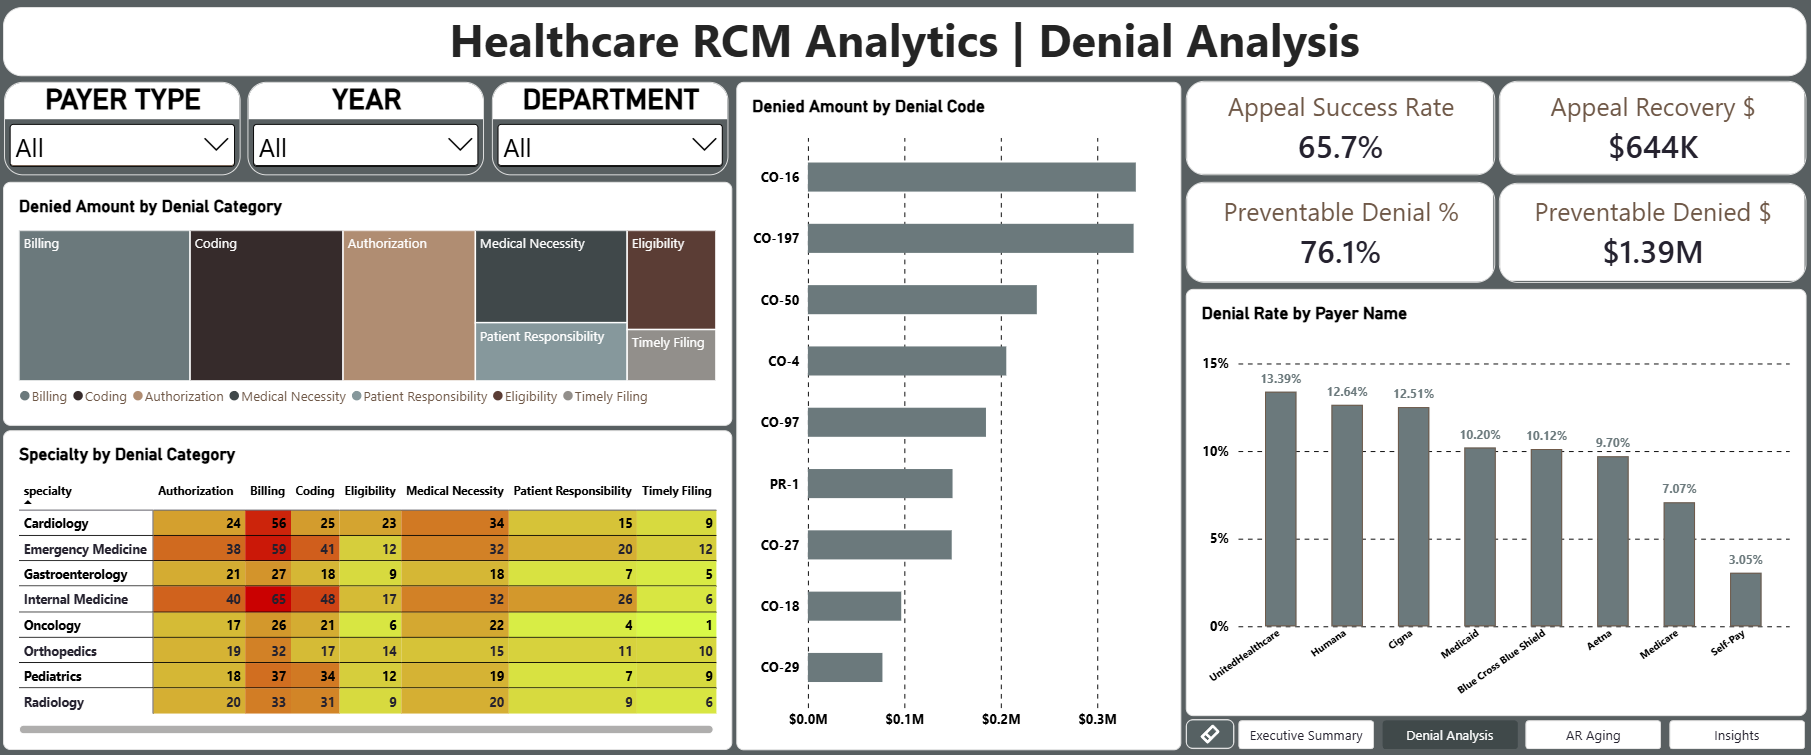

This screenshot's page, from the dashboard's own definition file:
{"tool":"powerbi","page":{"name":"Denial Analysis","canvas":[1920,800],"ordinal":1},"visuals":[{"type":"slicer","title":"YEAR","fields":{"Values":["Dim_Date.Year"]},"box":[264.3,87.9,250.7,98.5],"z":0},{"type":"slicer","title":"PAYER TYPE","fields":{"Values":["dim_payer.payer_type"]},"box":[6.3,87.9,250.2,99],"z":1000},{"type":"cardVisual","fields":{"Data":["_measures.Total Charges"]},"box":[1639.1,896.6,279.5,156.5],"z":2000},{"type":"slicer","title":"DEPARTMENT","fields":{"Values":["dim_provider.department"]},"box":[522.7,88,250.7,98.7],"z":3000},{"type":"textbox","box":[5.6,9,1909.6,73.6],"z":4000},{"type":"pageNavigator","box":[1313.8,763.8,601.2,31.2],"z":5000},{"type":"actionButton","box":[1257.7,762.9,51.6,31.4],"z":6000},{"type":"cardVisual","fields":{"Data":["_measures.Appeal Recovery $"]},"box":[1589.5,86.6,325.6,100],"z":7000},{"type":"cardVisual","fields":{"Data":["_measures.Appeal Success Rate"]},"box":[1257.6,86.6,327.9,100],"z":8000},{"type":"cardVisual","fields":{"Data":["_measures.Preventable Denied Amount"]},"box":[1589.3,195,325.7,105.7],"z":9000},{"type":"cardVisual","fields":{"Data":["_measures.Preventable Denial %"]},"box":[1257.9,193.6,327.9,107.1],"z":10000},{"type":"clusteredColumnChart","title":"Denial Rate by Payer Name","fields":{"Category":["dim_payer.payer_name"],"Y":["_measures.Denial Rate"]},"box":[1258,306.8,657,452.7],"z":11000},{"type":"clusteredBarChart","title":"Denied Amount by Denial Code","fields":{"Category":["fact_claims.denial_code"],"Y":["_measures.Denied Amount"]},"box":[781.4,87.2,471.5,707.6],"z":12000},{"type":"treemap","title":"Denied Amount by Denial Category","fields":{"Group":["dim_denial_reason.denial_category"],"Values":["_measures.Denied Amount"]},"box":[5.2,193.6,772.1,258.1],"z":13000},{"type":"pivotTable","title":"Specialty by Denial Category","fields":{"Columns":["dim_denial_reason.denial_category"],"Rows":["dim_provider.specialty"],"Values":["_measures.Denied Claims"]},"box":[5.2,456.4,772.1,338.4],"z":14000}]}

Visuals, with their boxes in screenshot pixels (x1, y1, x2, y2), scaled from the page's 1920x800 canvas onto the 1811x755 screenshot:
"YEAR" slicer: select_region(249, 83, 486, 176)
"PAYER TYPE" slicer: select_region(6, 83, 242, 176)
"DEPARTMENT" slicer: select_region(493, 83, 729, 176)
textbox: select_region(5, 8, 1806, 78)
pageNavigator: select_region(1239, 721, 1806, 750)
actionButton: select_region(1186, 720, 1235, 750)
cardVisual - _measures.Appeal Recovery $: select_region(1499, 82, 1806, 176)
cardVisual - _measures.Appeal Success Rate: select_region(1186, 82, 1495, 176)
cardVisual - _measures.Preventable Denied Amount: select_region(1499, 184, 1806, 284)
cardVisual - _measures.Preventable Denial %: select_region(1186, 183, 1496, 284)
"Denial Rate by Payer Name" clusteredColumnChart: select_region(1187, 290, 1806, 717)
"Denied Amount by Denial Code" clusteredBarChart: select_region(737, 82, 1182, 750)
"Denied Amount by Denial Category" treemap: select_region(5, 183, 733, 426)
"Specialty by Denial Category" pivotTable: select_region(5, 431, 733, 750)
